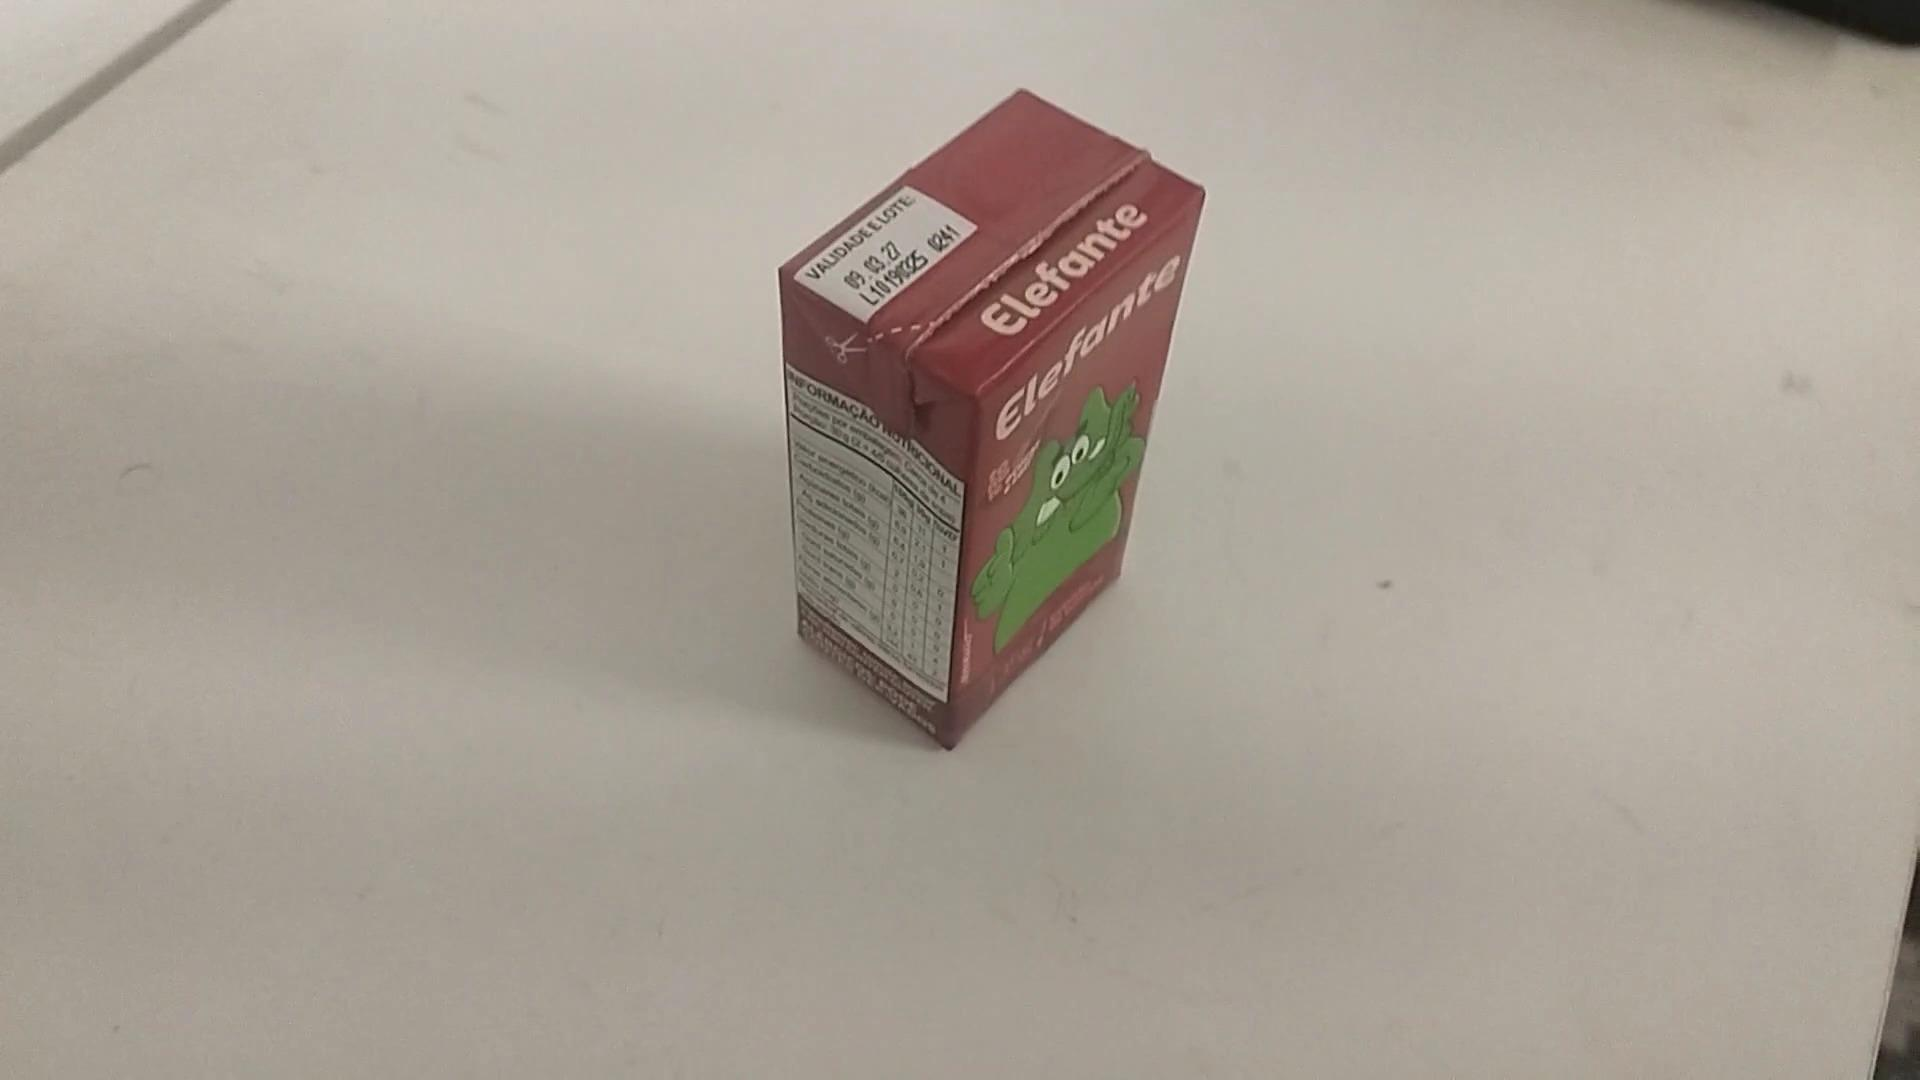tomate: (773, 75, 1217, 757)
